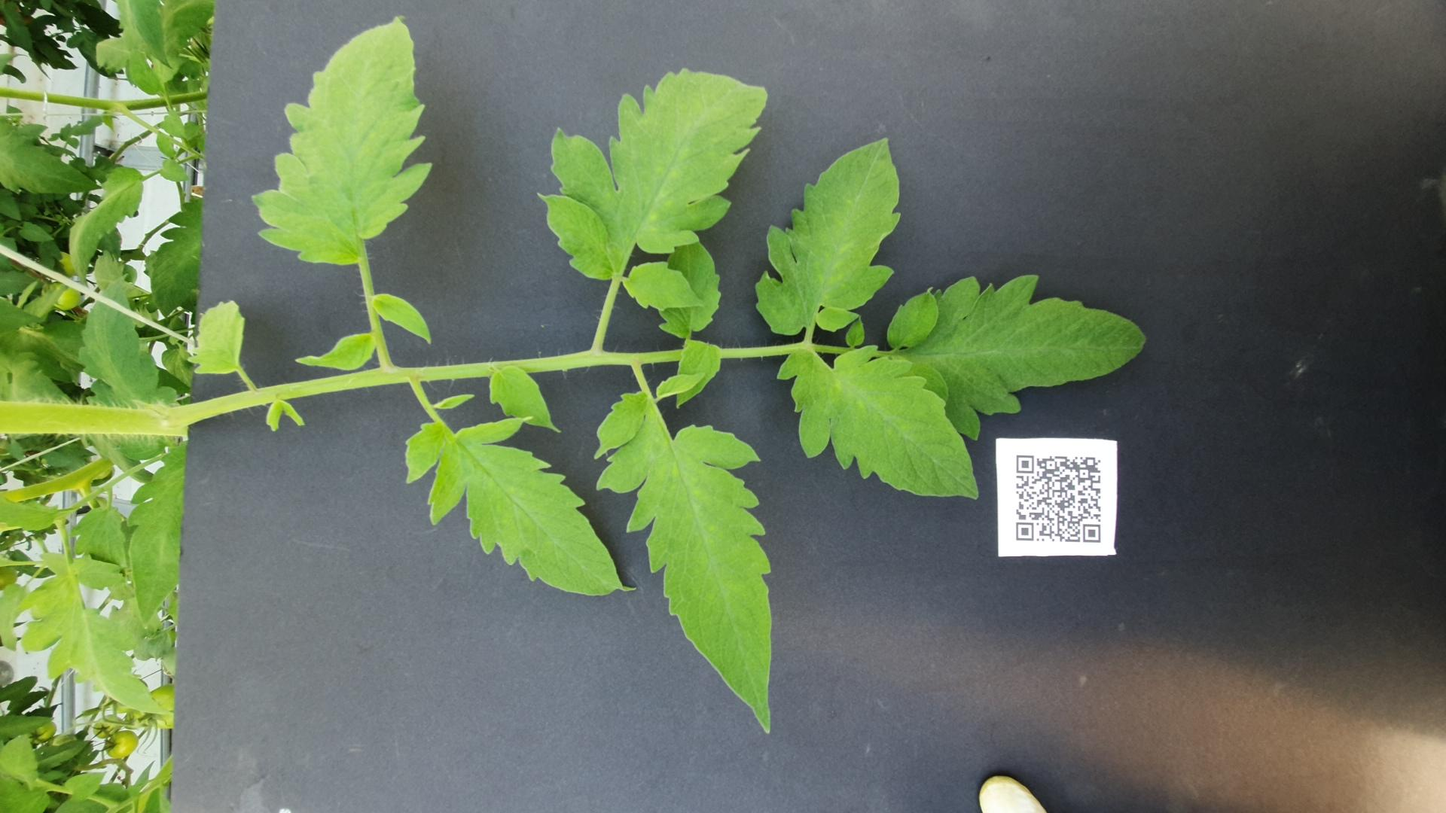Healthy: (141, 333, 756, 439), (887, 299, 1329, 434), (972, 137, 1426, 246), (355, 225, 709, 353), (683, 510, 969, 648), (551, 436, 832, 551), (847, 423, 1214, 508), (166, 8, 465, 97), (321, 70, 666, 106), (1093, 0, 1232, 56), (879, 83, 1093, 112)
